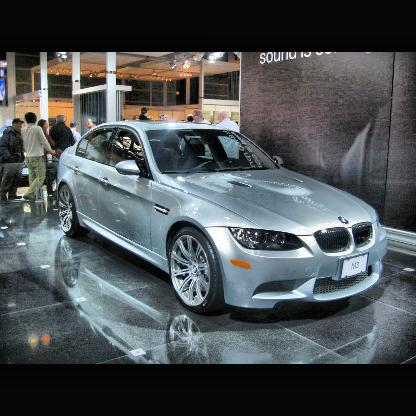BMW M3 Coupe 2012: (54, 121, 390, 313)
